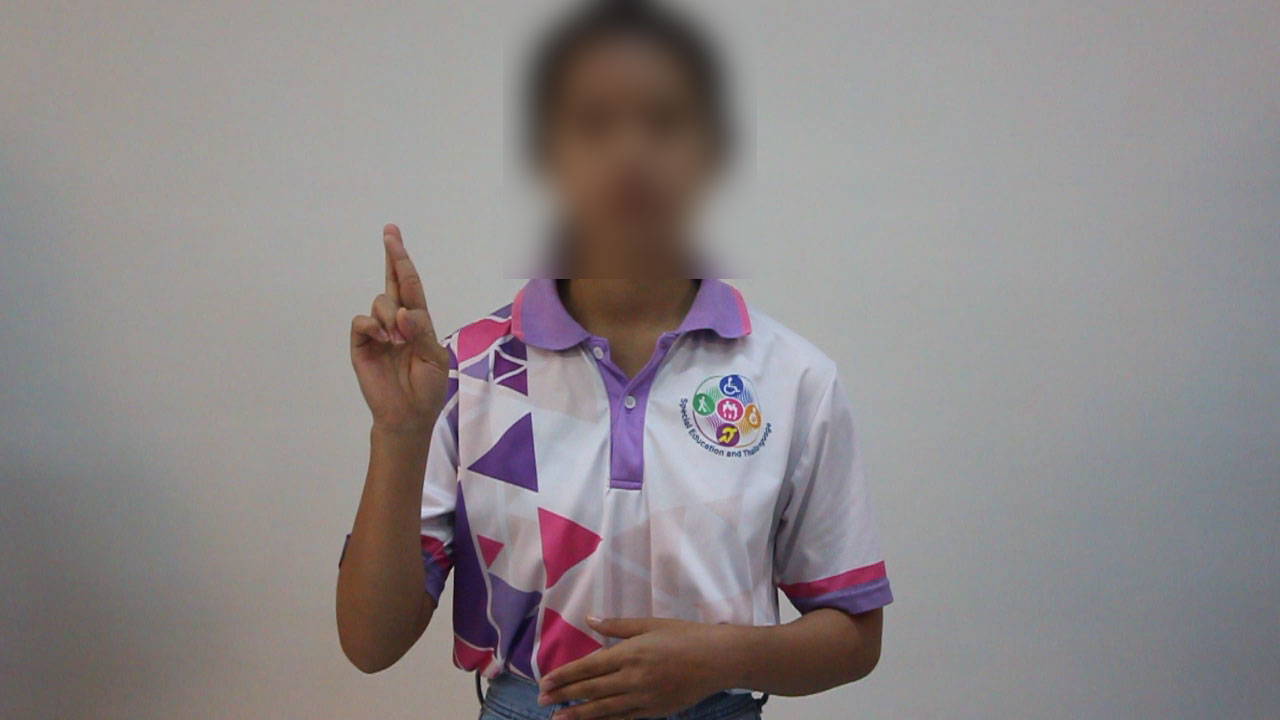rao: (334, 208, 468, 451)
